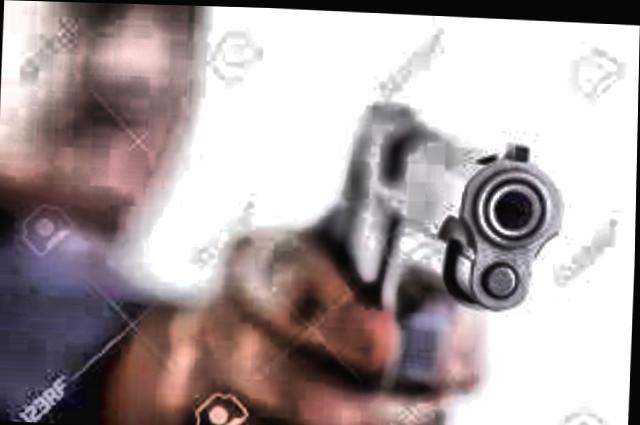pistol: (335, 88, 570, 394)
